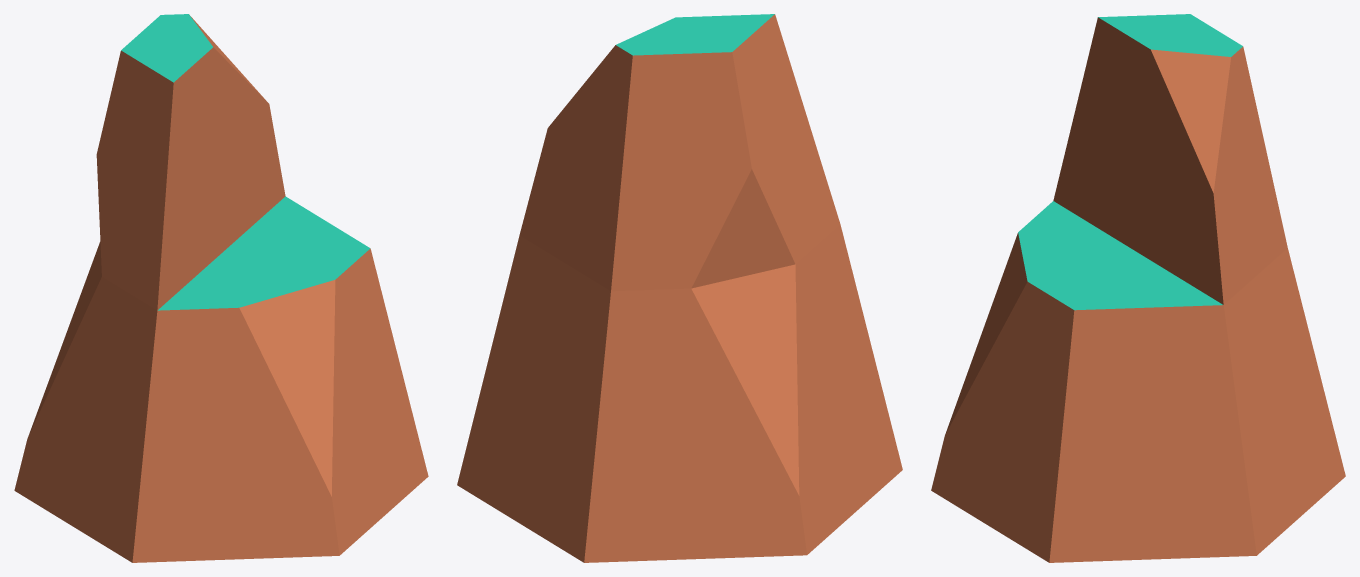
File: rock_tallJ.dae
The picture shows the model from 3 angles, left to right: view 1: azimuth 30°, elevation 25°; view 2: azimuth 150°, elevation 25°; view 3: azimuth 270°, elevation 25°; orthographic projection. The views are drawn at different scales.
Visible parts, largest first — view 1: rock_tallJ; view 2: rock_tallJ; view 3: rock_tallJ.
Part boxes in pixels (bbox=[...]): rock_tallJ: bbox=[14, 14, 428, 562]; rock_tallJ: bbox=[457, 14, 902, 562]; rock_tallJ: bbox=[931, 14, 1345, 562].
Size of the model in its own units: 0.4879 by 0.62 by 0.5382.
